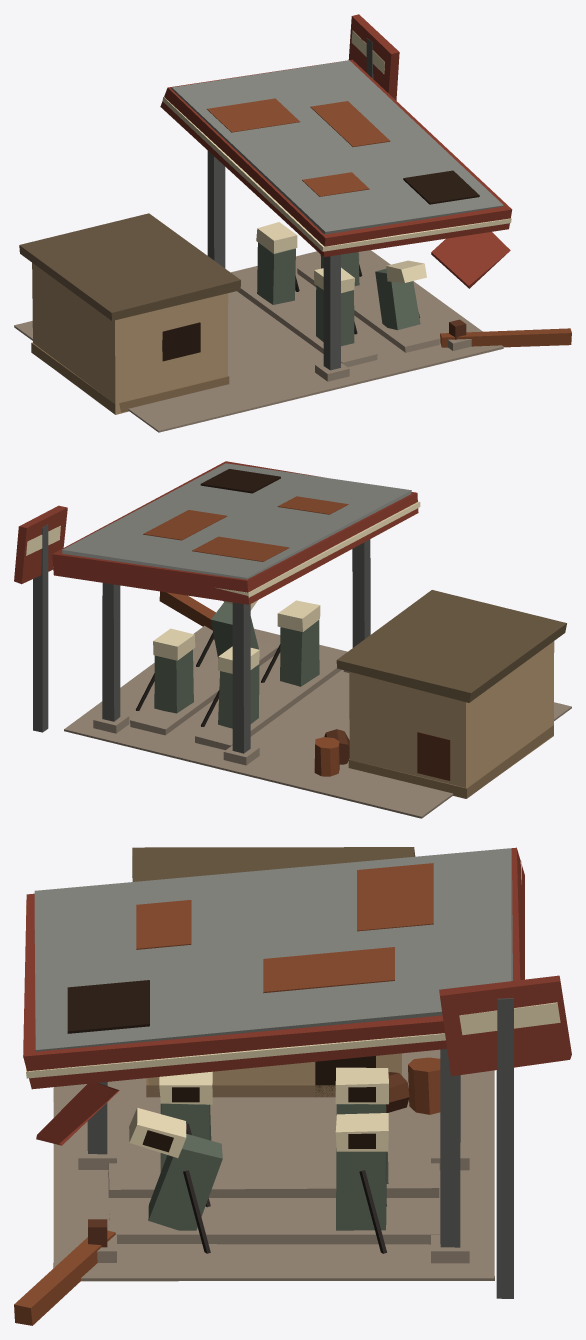
The model's file is gas_station.glb.
3 renders of one model, top to bottom at view 1: azimuth 30°, elevation 25°; view 2: azimuth 150°, elevation 25°; view 3: azimuth 270°, elevation 25°, orthographic. The views are drawn at different scales.
Parts seen in each view (by area): view 1: gas_station; view 2: gas_station; view 3: gas_station.
Part boxes in pixels (box(x1,y1,x2,y2)): gas_station: box(14, 14, 571, 432); gas_station: box(14, 461, 571, 818); gas_station: box(14, 847, 571, 1325).
Bounding box in the file's own units: 13.58 × 6.37 × 10.13.
